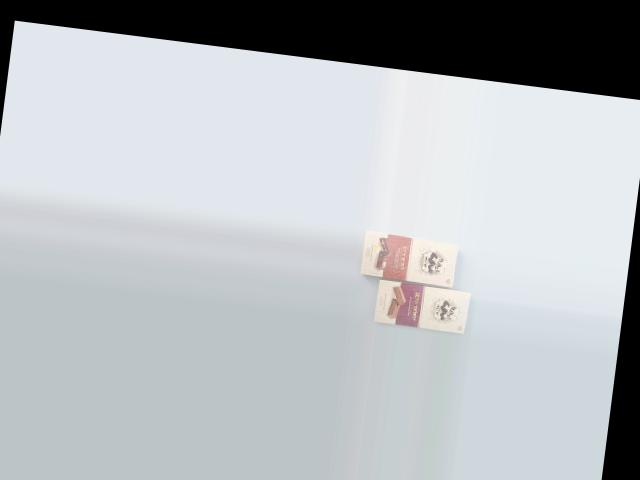chocolate: (356, 228, 463, 297)
